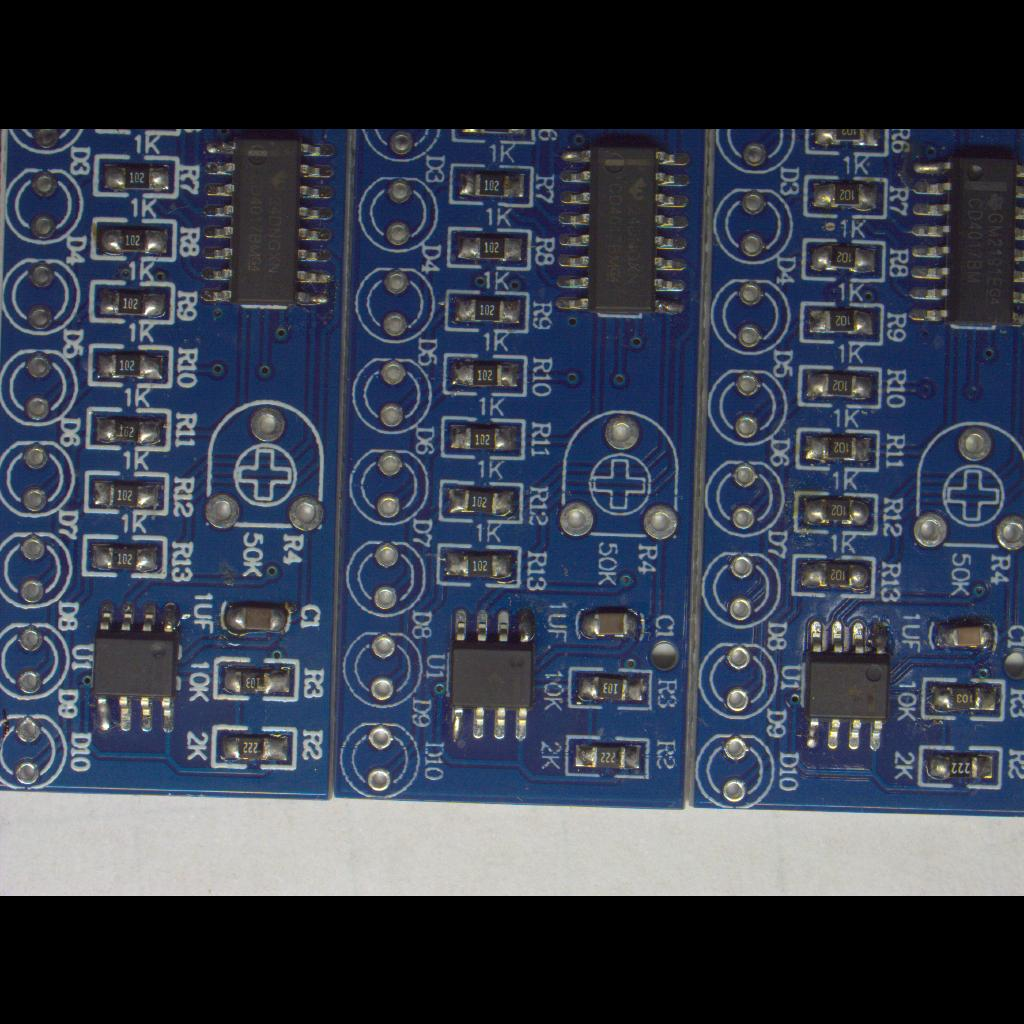OK: (546, 128, 700, 332), (194, 131, 344, 317), (900, 144, 1024, 340), (790, 610, 904, 768), (439, 598, 541, 752), (86, 593, 186, 745), (210, 653, 304, 707), (90, 149, 182, 203), (913, 740, 1007, 792), (86, 276, 178, 328), (79, 530, 171, 582), (82, 466, 174, 518), (916, 674, 1008, 726), (563, 662, 655, 714), (207, 722, 301, 772), (444, 222, 534, 274), (433, 540, 525, 590), (437, 412, 529, 462), (440, 350, 532, 400), (436, 477, 528, 527), (796, 298, 888, 348), (920, 610, 1008, 662), (568, 598, 652, 652), (88, 213, 178, 263), (800, 171, 890, 221), (442, 286, 532, 336), (85, 340, 175, 390), (793, 362, 885, 410), (794, 425, 882, 475), (790, 552, 878, 602), (563, 732, 651, 782), (447, 160, 537, 208), (84, 404, 174, 452), (791, 489, 881, 537), (800, 236, 888, 284), (218, 594, 300, 640), (800, 128, 892, 156)
